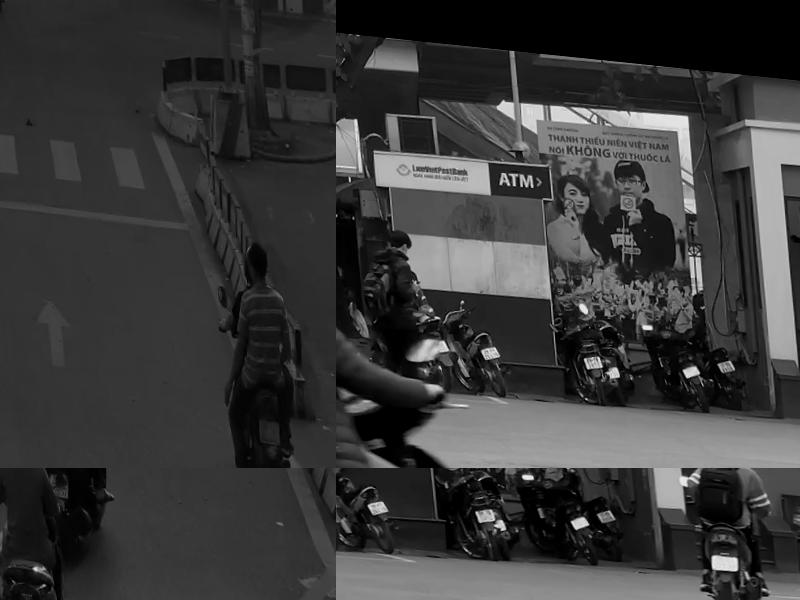license_plate: (470, 498, 494, 522), (252, 408, 275, 433), (362, 496, 387, 518), (562, 504, 586, 524), (708, 545, 735, 561), (592, 499, 613, 519), (475, 335, 497, 353), (578, 342, 600, 359), (712, 343, 732, 360), (678, 348, 696, 365)
motorcyclist: (336, 175, 539, 468), (216, 220, 304, 468), (672, 468, 772, 600), (0, 468, 61, 600), (27, 468, 107, 551)
